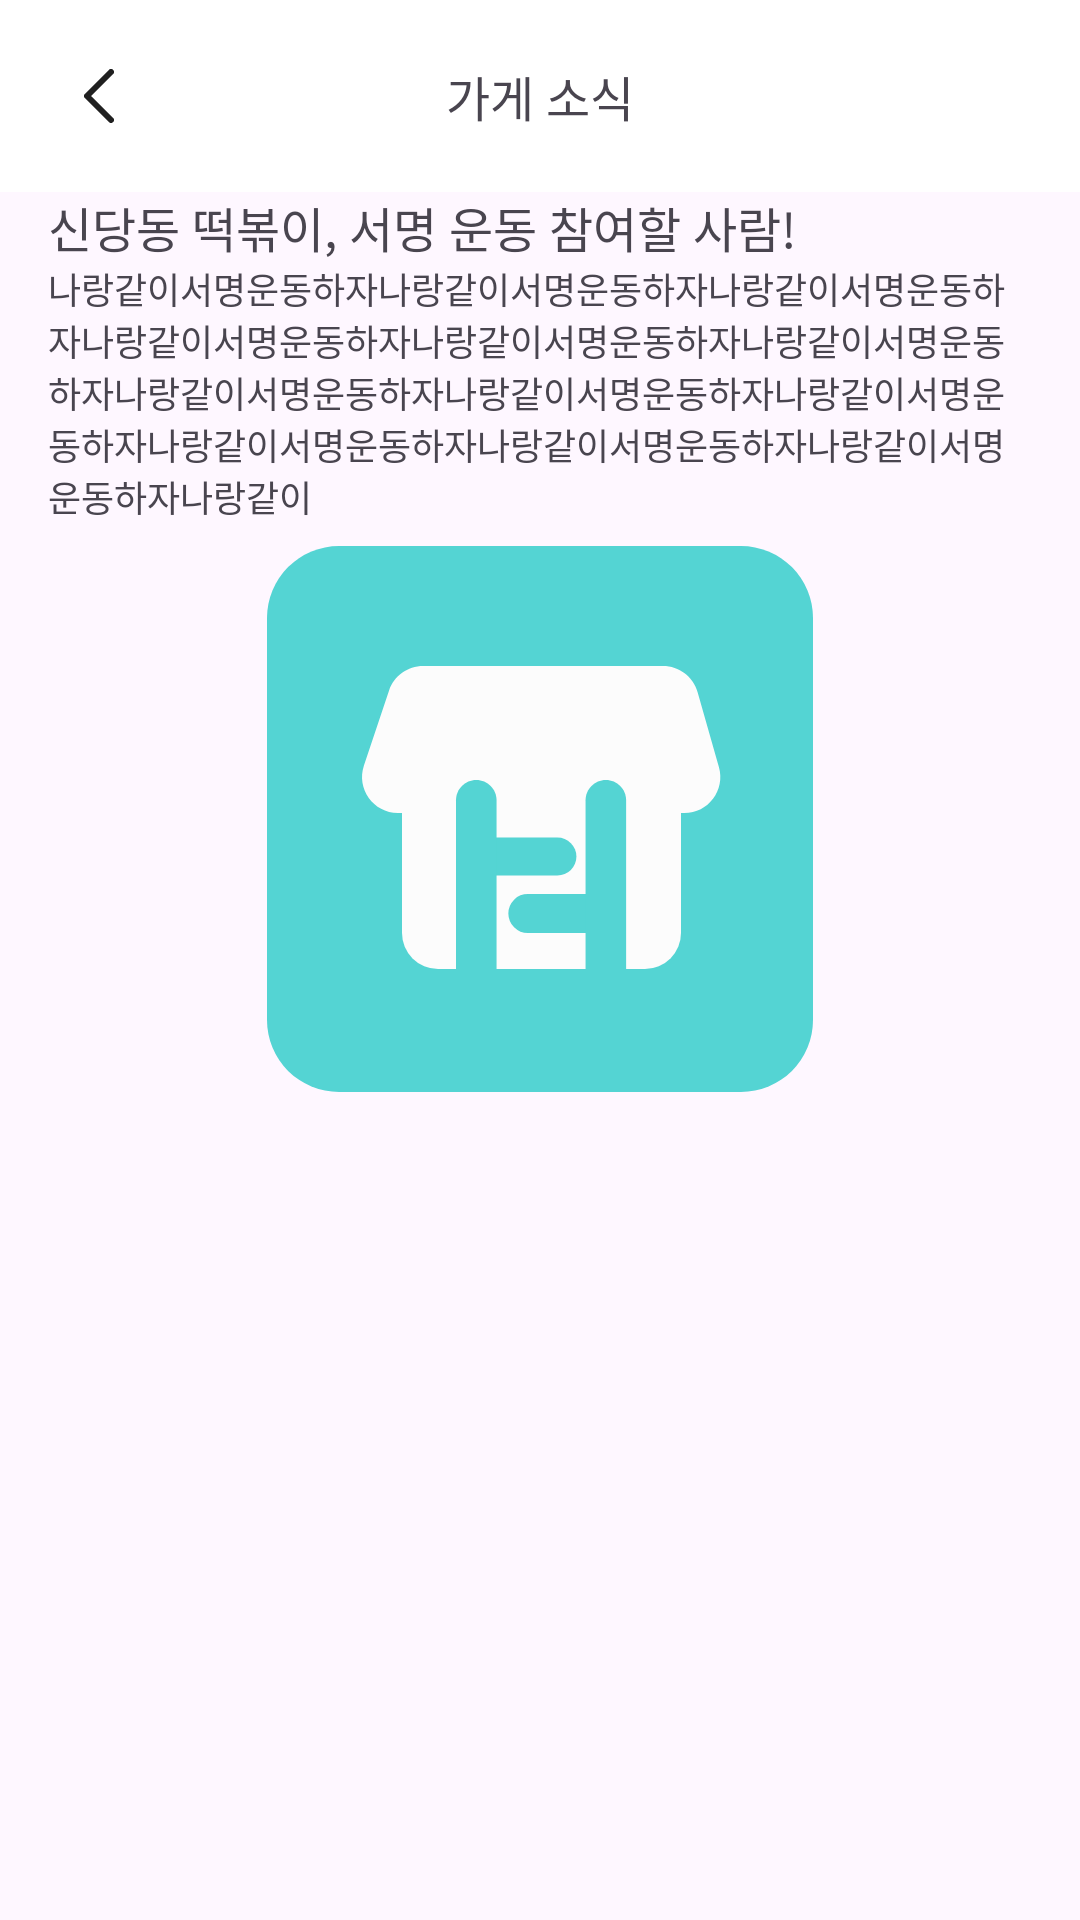

Screen size 1080 x 1920. Icon name, then its box in pixels as bbox=(x1, y1, x2, y2):
home back: bbox=(84, 69, 114, 123)
